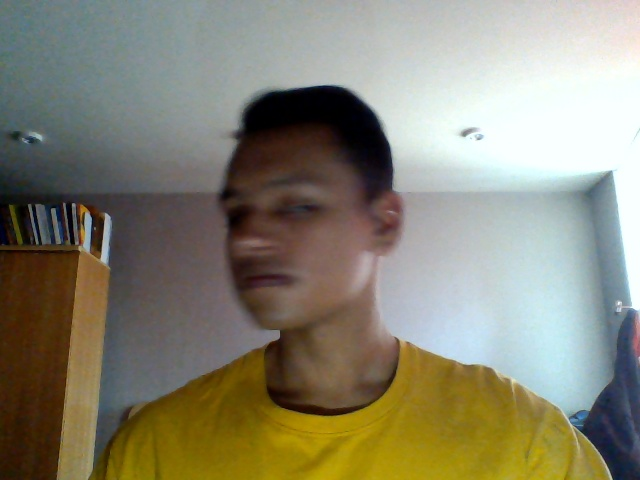no_mask: (218, 222, 373, 335)
